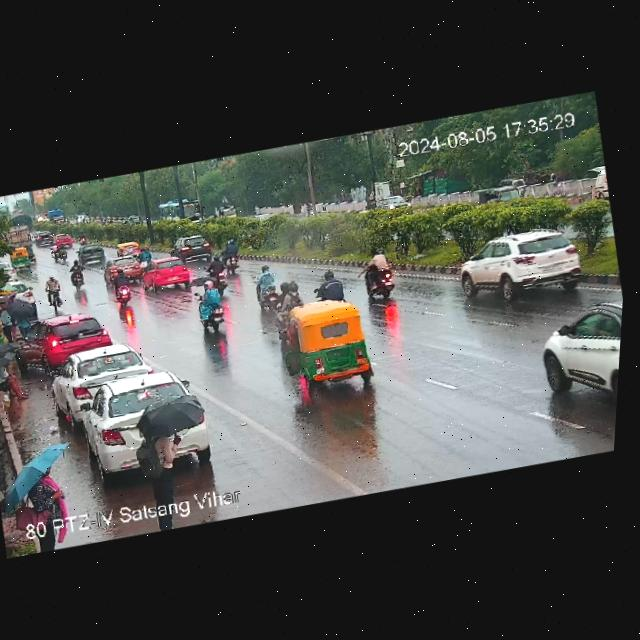bus: (154, 194, 209, 229)
car: (71, 365, 214, 487), (451, 221, 592, 311), (273, 290, 379, 397), (531, 297, 623, 403), (45, 339, 156, 418), (12, 309, 116, 376), (140, 256, 195, 293), (166, 232, 216, 271), (104, 251, 147, 283), (480, 182, 529, 208), (74, 241, 115, 270), (369, 191, 416, 216), (8, 244, 34, 271), (50, 229, 75, 253), (32, 228, 57, 249)
motorcycle: (183, 279, 236, 337), (265, 278, 310, 344), (356, 246, 405, 303), (215, 234, 254, 275), (310, 270, 352, 308), (253, 263, 283, 312), (108, 269, 139, 306), (63, 259, 89, 291), (139, 247, 156, 266), (56, 243, 71, 264), (75, 228, 91, 247), (49, 242, 62, 263), (302, 202, 318, 217)
person: (126, 394, 220, 499), (0, 442, 89, 524), (0, 288, 43, 343), (0, 344, 34, 406)
